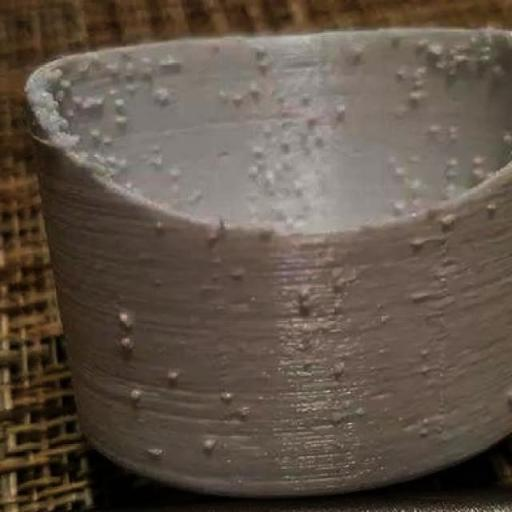blobs: (426, 36, 451, 61), (117, 330, 137, 355), (197, 431, 222, 451), (160, 364, 182, 386), (235, 396, 253, 422), (144, 441, 168, 460), (407, 233, 431, 252), (125, 382, 147, 401), (118, 308, 138, 328), (333, 99, 351, 119), (54, 86, 74, 104), (273, 138, 293, 155), (218, 387, 236, 405), (438, 212, 456, 230), (293, 287, 316, 301), (407, 88, 427, 104), (114, 113, 130, 133), (330, 357, 344, 379), (443, 154, 461, 171), (152, 85, 168, 104), (228, 264, 245, 281), (427, 119, 445, 135), (152, 216, 168, 234), (480, 202, 500, 216), (253, 45, 270, 61), (112, 99, 126, 116), (234, 90, 244, 108), (247, 86, 263, 96)
